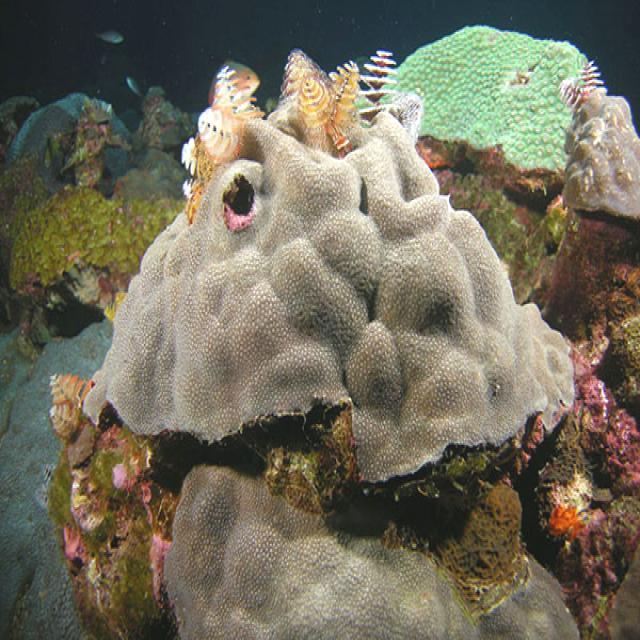Coral: (82, 108, 574, 484), (164, 462, 580, 640), (353, 24, 588, 175)
